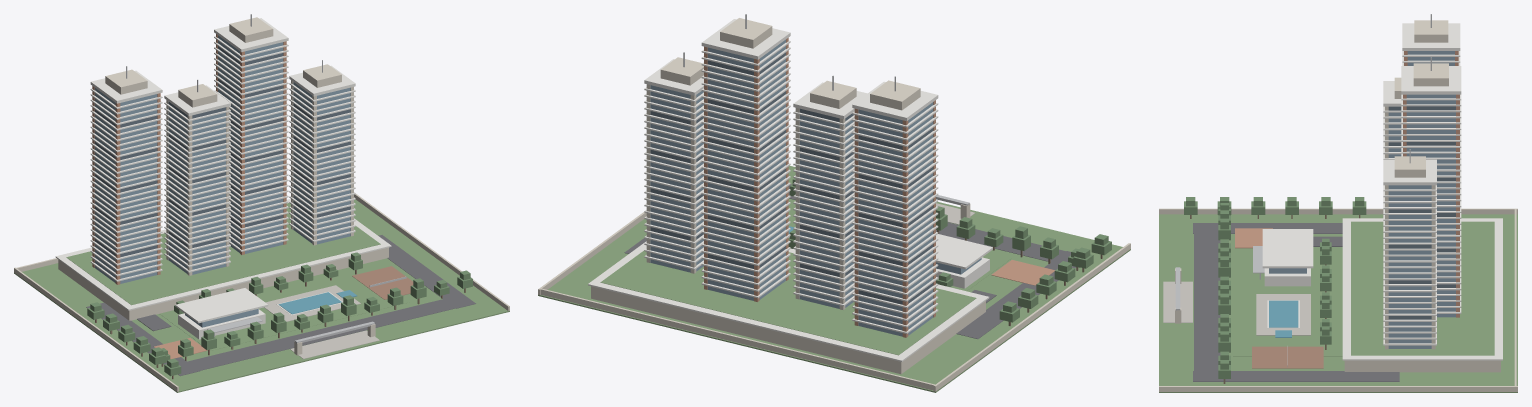
File: gurugram-masterplan.glb
3 views of the same model, side by side, from view 1: azimuth 30°, elevation 25°; view 2: azimuth 150°, elevation 25°; view 3: azimuth 270°, elevation 25° (orthographic). The views are drawn at different scales.
Parts seen in each view (by area): view 1: Tower_A, Tower_C, Ground, Tower_B, Tower_D, Podium_Landscape, Central_Green, Driveway_Loop, Podium_Deck, Podium_Coping, Clubhouse_Roof, Driveway_East (+16 smaller); view 2: Tower_C, Tower_A, Tower_B, Ground, Tower_D, Podium_Landscape, Podium_Deck, Podium_Coping, Boundary_Wall_North, Boundary_Wall_West, Driveway_West, Clubhouse_Roof (+13 smaller); view 3: Ground, Podium_Landscape, Tower_D, Tower_C, Central_Green, Podium_Coping, Driveway_Loop, Boundary_Wall_East, Driveway_East, Clubhouse_Roof, Podium_Deck, Tennis_Court (+17 smaller).
Boxes of the visible parts, x1,y1,x2,y2 form: Tower_A: (90, 86, 162, 284); Tower_C: (214, 34, 288, 254); Ground: (14, 199, 509, 392); Tower_B: (164, 100, 230, 275); Tower_D: (289, 80, 355, 245); Podium_Landscape: (66, 203, 380, 305); Central_Green: (159, 267, 409, 350); Driveway_Loop: (178, 299, 455, 370); Podium_Deck: (58, 247, 388, 320); Podium_Coping: (55, 199, 391, 310); Clubhouse_Roof: (175, 288, 268, 323); Driveway_East: (378, 235, 475, 308); Tower_C: (701, 37, 790, 301); Tower_A: (852, 100, 938, 337); Tower_B: (793, 108, 854, 309); Ground: (538, 165, 1130, 392); Tower_D: (644, 84, 703, 273); Podium_Landscape: (600, 250, 976, 355); Podium_Deck: (591, 286, 985, 374); Podium_Coping: (588, 241, 989, 361); Boundary_Wall_North: (540, 288, 937, 390); Boundary_Wall_West: (933, 243, 1130, 391); Driveway_West: (956, 251, 1076, 338); Clubhouse_Roof: (936, 234, 992, 269); Ground: (1159, 214, 1517, 392); Podium_Landscape: (1351, 221, 1494, 355); Tower_D: (1383, 185, 1436, 349); Tower_C: (1401, 94, 1461, 317); Central_Green: (1233, 249, 1342, 356); Podium_Coping: (1342, 218, 1502, 360); Driveway_Loop: (1194, 226, 1220, 370); Boundary_Wall_East: (1159, 386, 1517, 391); Driveway_East: (1193, 371, 1399, 381); Clubhouse_Roof: (1262, 229, 1313, 268); Podium_Deck: (1344, 360, 1500, 372); Tennis_Court: (1252, 346, 1323, 368).
Size of the model in its own units: 200 by 138 by 170.
